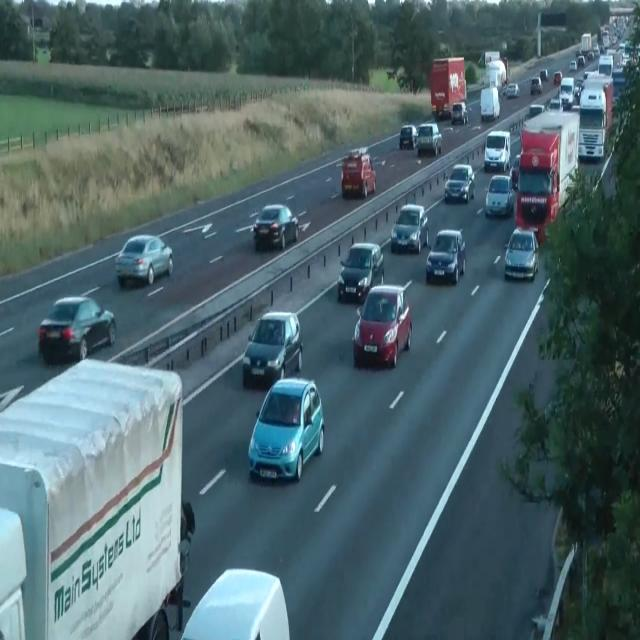bus: (248, 377, 324, 482), (180, 567, 290, 639), (38, 295, 116, 365), (352, 282, 412, 368), (242, 310, 302, 388), (115, 234, 173, 286), (337, 242, 384, 304), (426, 228, 466, 284), (252, 202, 298, 250), (504, 227, 539, 281), (391, 203, 428, 253), (484, 173, 514, 217), (530, 597, 564, 632), (444, 164, 475, 202), (558, 76, 575, 110), (398, 124, 418, 150), (509, 154, 521, 189), (451, 102, 468, 124), (598, 55, 613, 77), (546, 97, 564, 113), (574, 78, 584, 102), (506, 82, 520, 98), (530, 103, 546, 117), (530, 76, 542, 94), (554, 71, 562, 85), (386, 68, 396, 79), (540, 68, 548, 81), (569, 60, 577, 71), (578, 55, 584, 67)
jeep: (340, 150, 376, 198), (484, 129, 510, 172), (414, 122, 442, 156)
minibus: (0, 357, 194, 639), (515, 110, 579, 243), (574, 75, 614, 162), (429, 56, 467, 119), (480, 85, 500, 121), (487, 59, 507, 89), (478, 51, 500, 68), (581, 32, 592, 54)
